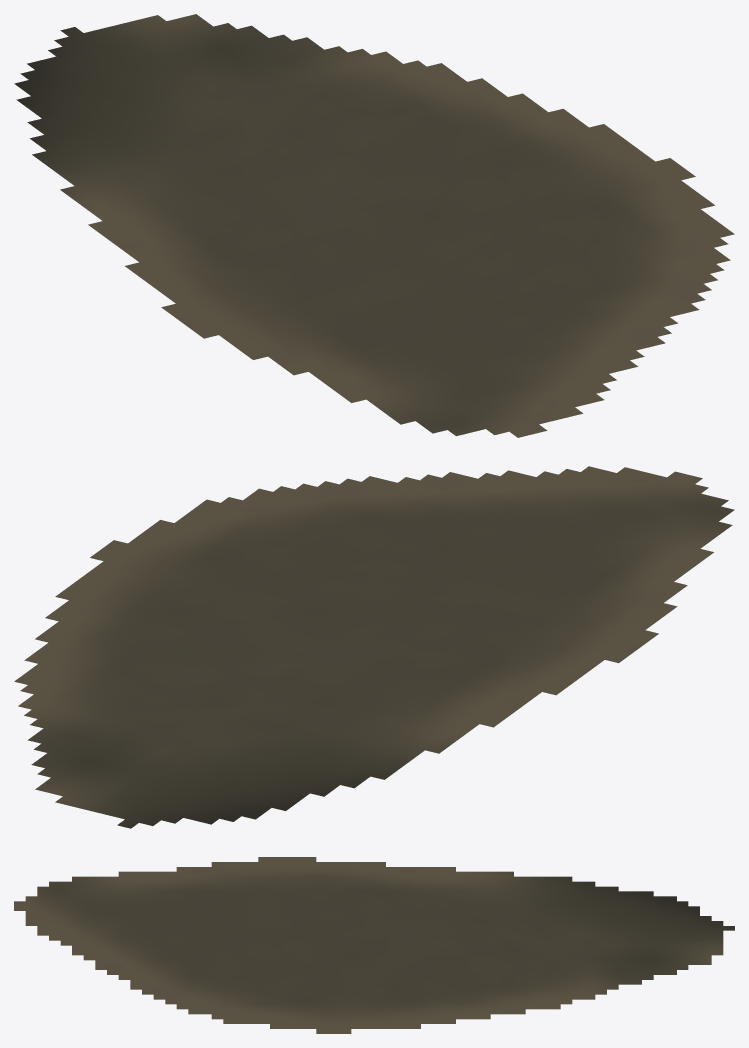
The model's file is ISL2_MudPuddle_0.fbx.
3 views of the same model, one above another, from view 1: azimuth 30°, elevation 25°; view 2: azimuth 150°, elevation 25°; view 3: azimuth 270°, elevation 25° (orthographic). The views are drawn at different scales.
Parts seen in each view (by area): view 1: ISL2_MudPuddle_0.001; view 2: ISL2_MudPuddle_0.001; view 3: ISL2_MudPuddle_0.001.
Boxes of the visible parts, box(x1,y1,x2,y2) form: ISL2_MudPuddle_0.001: box(14, 14, 734, 437); ISL2_MudPuddle_0.001: box(14, 466, 734, 828); ISL2_MudPuddle_0.001: box(14, 857, 734, 1033).
Bounding box in the file's own units: 12.6 × 0 × 21.7.
